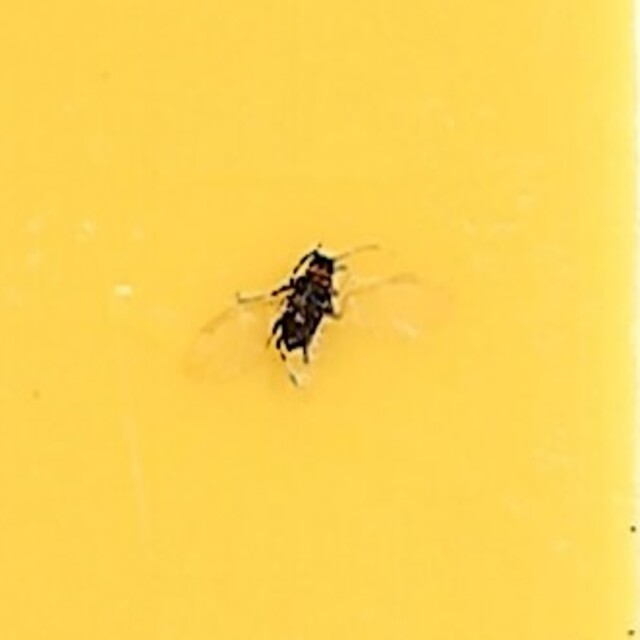Coleoptera: (193, 242, 447, 398)
